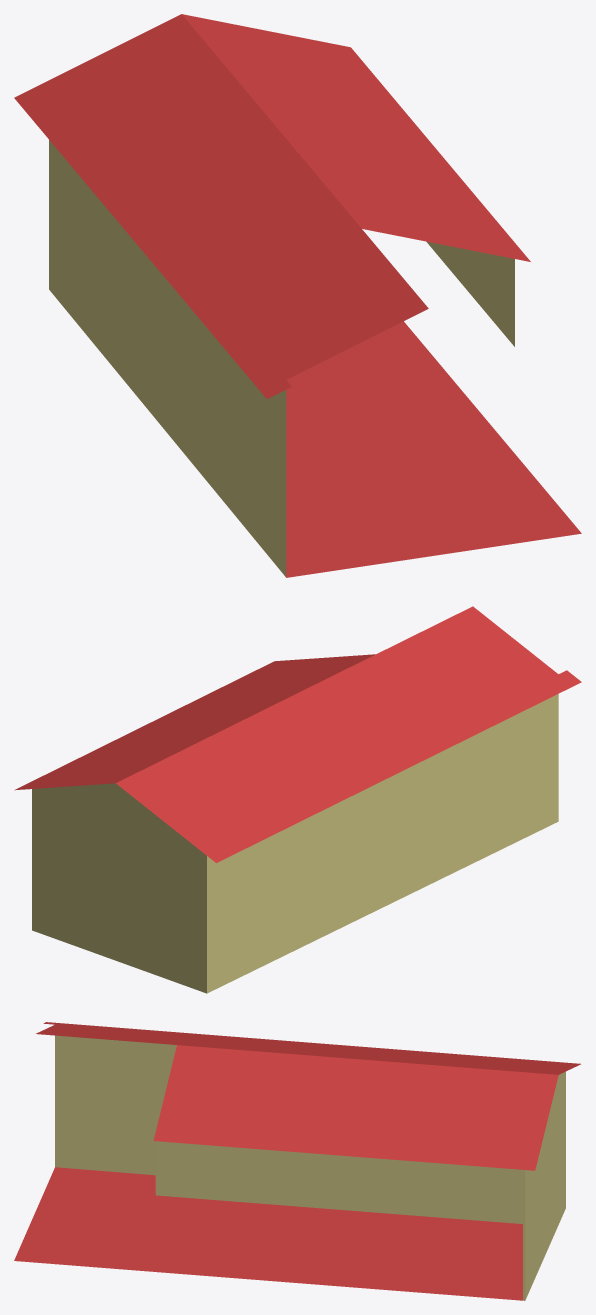
3 views of the same model, one above another, from view 1: azimuth 30°, elevation 25°; view 2: azimuth 150°, elevation 25°; view 3: azimuth 270°, elevation 25° (orthographic). The views are drawn at different scales.
Size of the model in its own units: 14.21 by 22.93 by 7.95.
